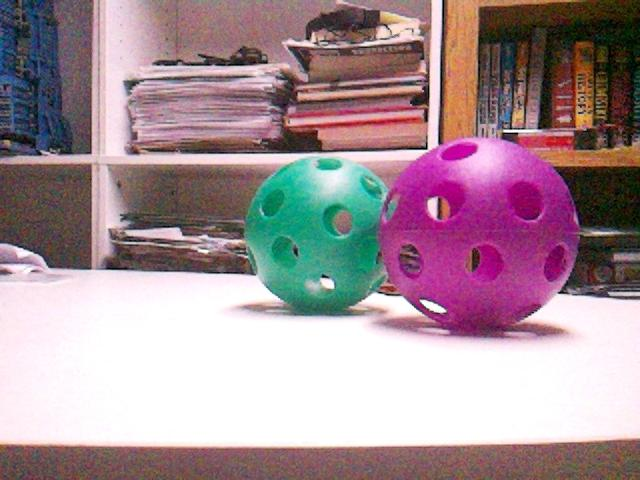Green: (242, 155, 392, 314)
Purple: (378, 138, 579, 330)
